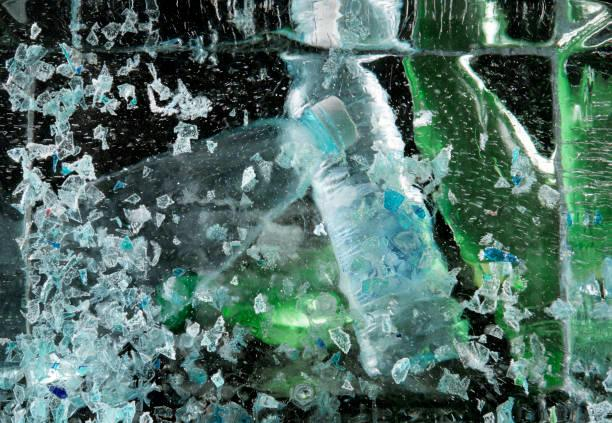Plastic: (37, 93, 347, 341), (281, 52, 453, 376)
